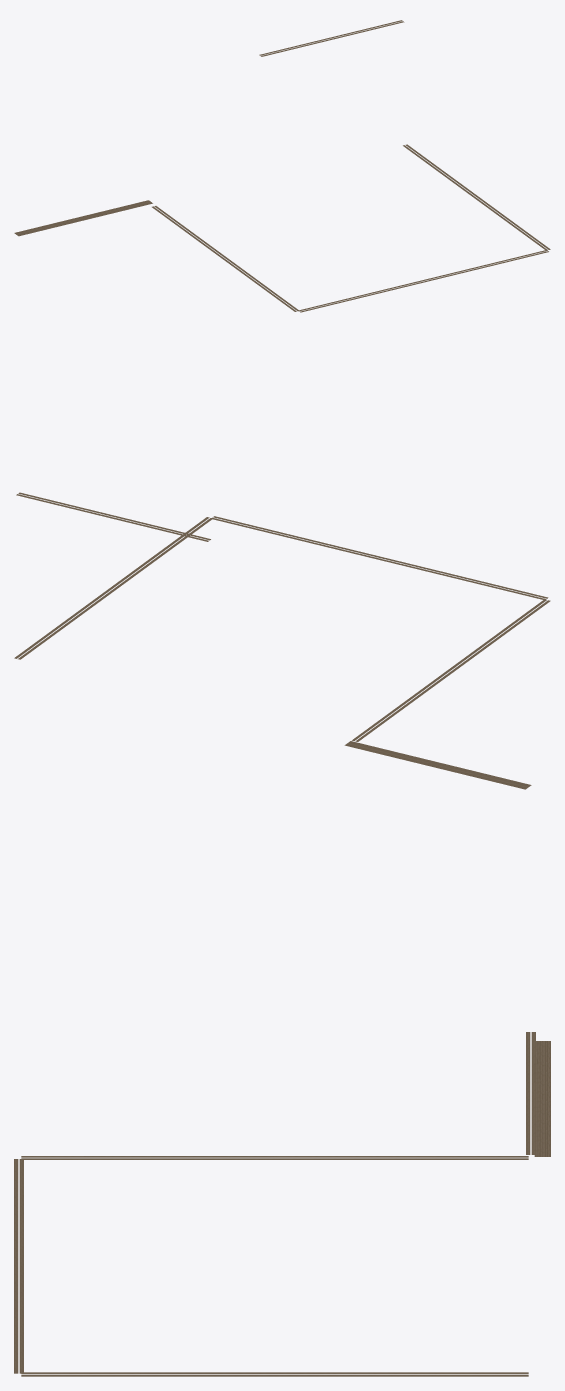
File: kd_stage_135c43_4_16.glb
3 renders of one model, top to bottom at view 1: azimuth 30°, elevation 25°; view 2: azimuth 150°, elevation 25°; view 3: azimuth 270°, elevation 25°, orthographic. The views are drawn at different scales.
Visible parts, largest first — view 1: kd_stage_135c43_4_16; view 2: kd_stage_135c43_4_16; view 3: kd_stage_135c43_4_16.
Boxes of the visible parts, x1,y1,x2,y2 form: kd_stage_135c43_4_16: (14,20,550,312); kd_stage_135c43_4_16: (14,492,550,789); kd_stage_135c43_4_16: (14,1032,550,1376).
Bounding box in the file's own units: 5.6 × 1.8 × 3.81.
Materials: 1 (1 with a texture image).
